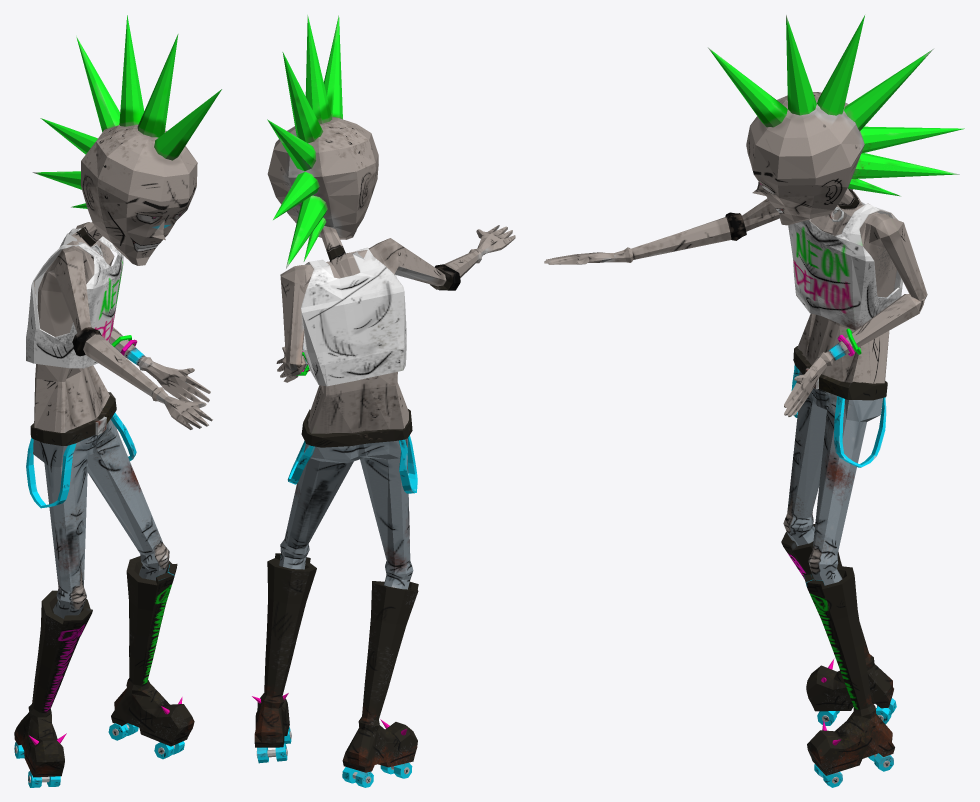
File: punkAnimation_000009.obj
3 views of the same model, side by side, from view 1: azimuth 30°, elevation 25°; view 2: azimuth 150°, elevation 25°; view 3: azimuth 270°, elevation 25° (orthographic). The views are drawn at different scales.
Parts seen in each view (by area): view 1: Cube.004_Cube.003; view 2: Cube.004_Cube.003; view 3: Cube.004_Cube.003.
Boxes of the visible parts, x1=… form: Cube.004_Cube.003: x1=14, y1=15, x2=221, y2=787; Cube.004_Cube.003: x1=252, y1=15, x2=515, y2=787; Cube.004_Cube.003: x1=544, y1=15, x2=964, y2=787.
Bounding box in the file's own units: 1.71 × 7.4 × 3.71.
